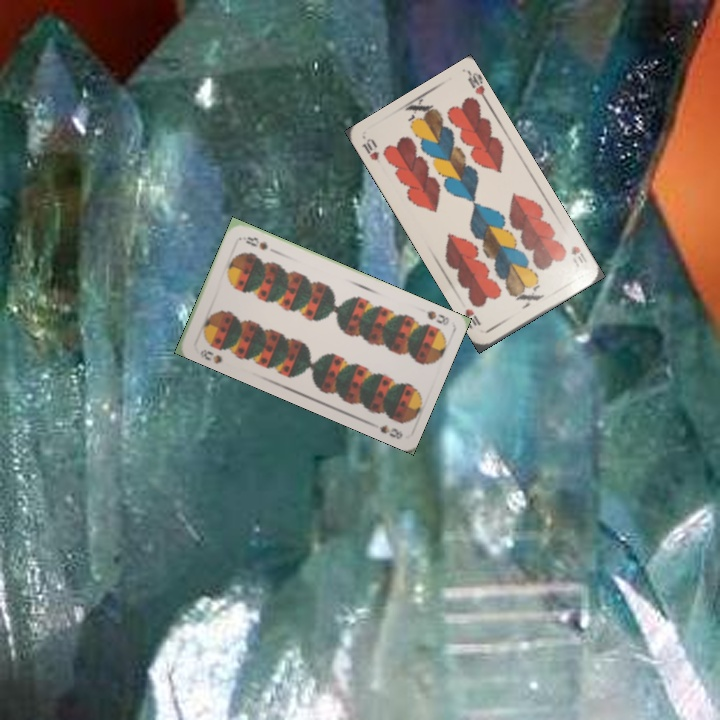H10: (357, 134, 382, 163), (566, 242, 590, 270)
S8: (422, 307, 452, 328), (196, 345, 225, 366)
